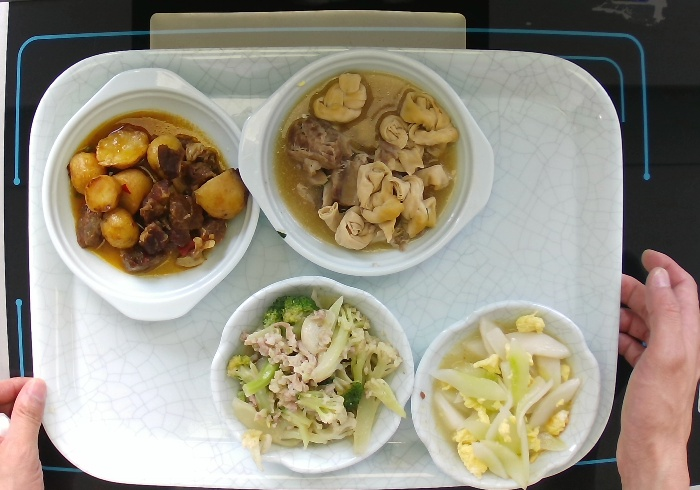JYsf-Ao_Yuan_Wan: (207, 272, 419, 479), (408, 296, 605, 490)
JYsf-Shuang_Er_Pan: (235, 48, 499, 281), (38, 62, 263, 328)
